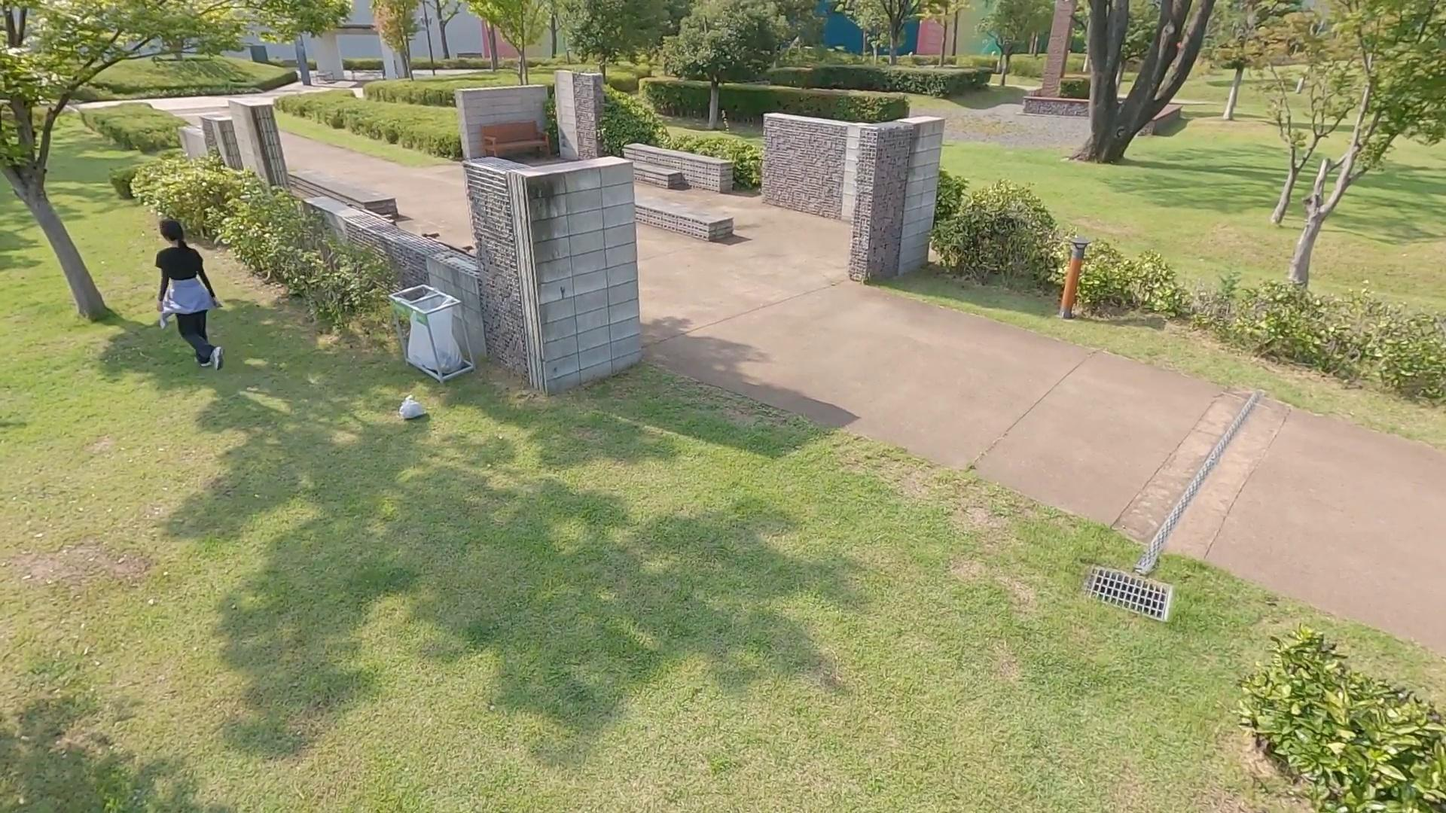person: (153, 219, 227, 373)
trash: (398, 395, 428, 421)
